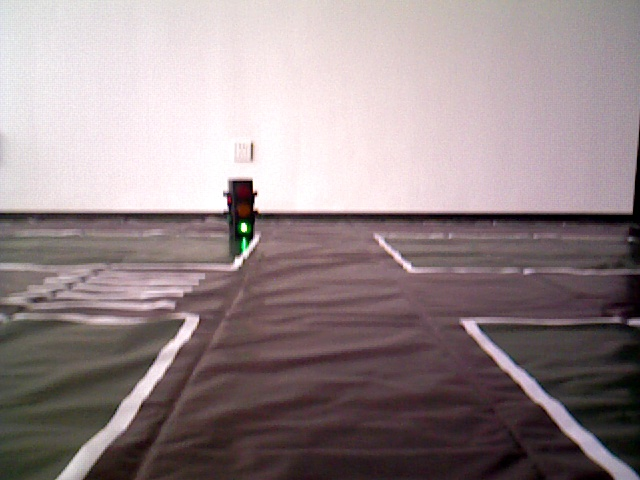green: (228, 182, 254, 238)
